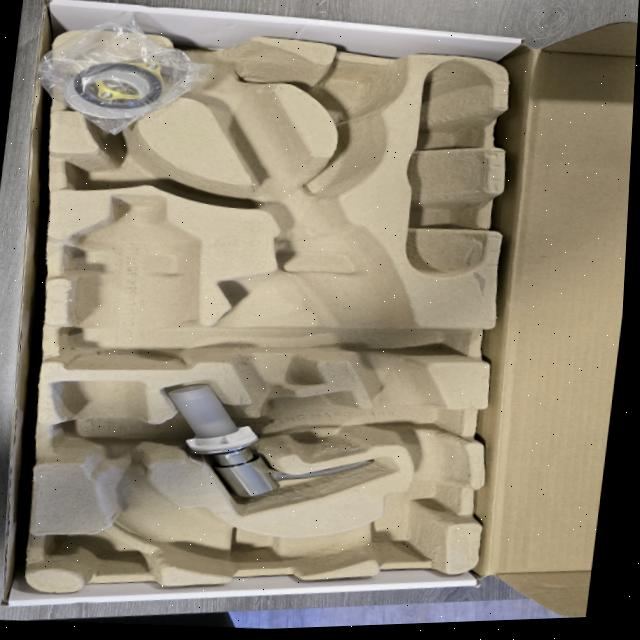1m: (52, 44, 464, 570)
2: (169, 383, 373, 499)
3m: (63, 194, 197, 368)
4m: (404, 58, 492, 277)
5m: (313, 60, 396, 121)
6: (33, 4, 217, 134)
7m: (61, 144, 177, 187)
